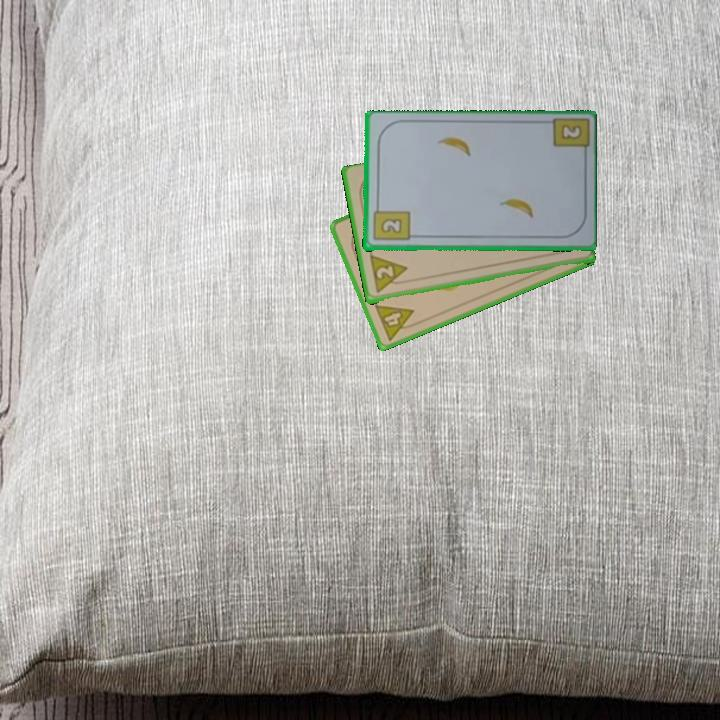2b: (370, 202, 411, 244), (557, 121, 582, 142)
2p: (366, 253, 412, 296)
4p: (371, 301, 421, 343)
